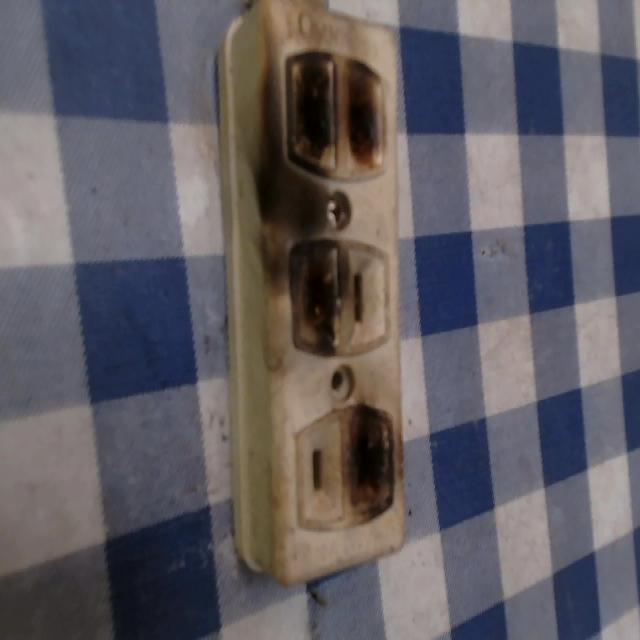-: (279, 42, 392, 190), (274, 229, 352, 360), (344, 403, 402, 520)
